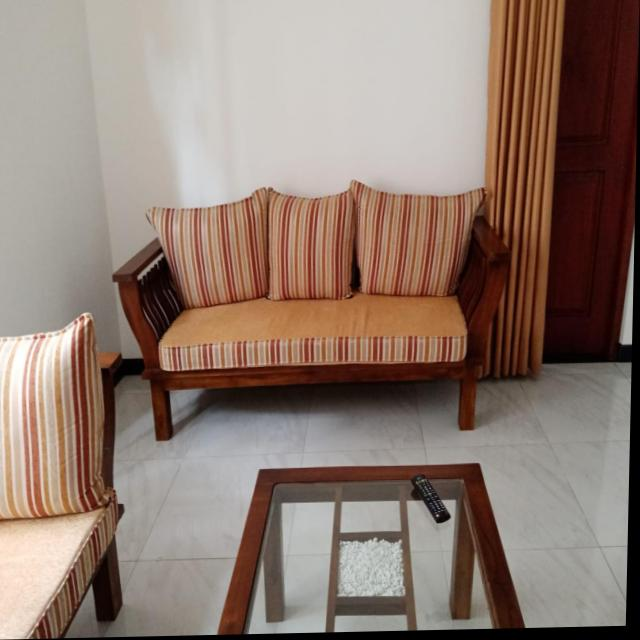Sofa: (116, 184, 517, 443)
